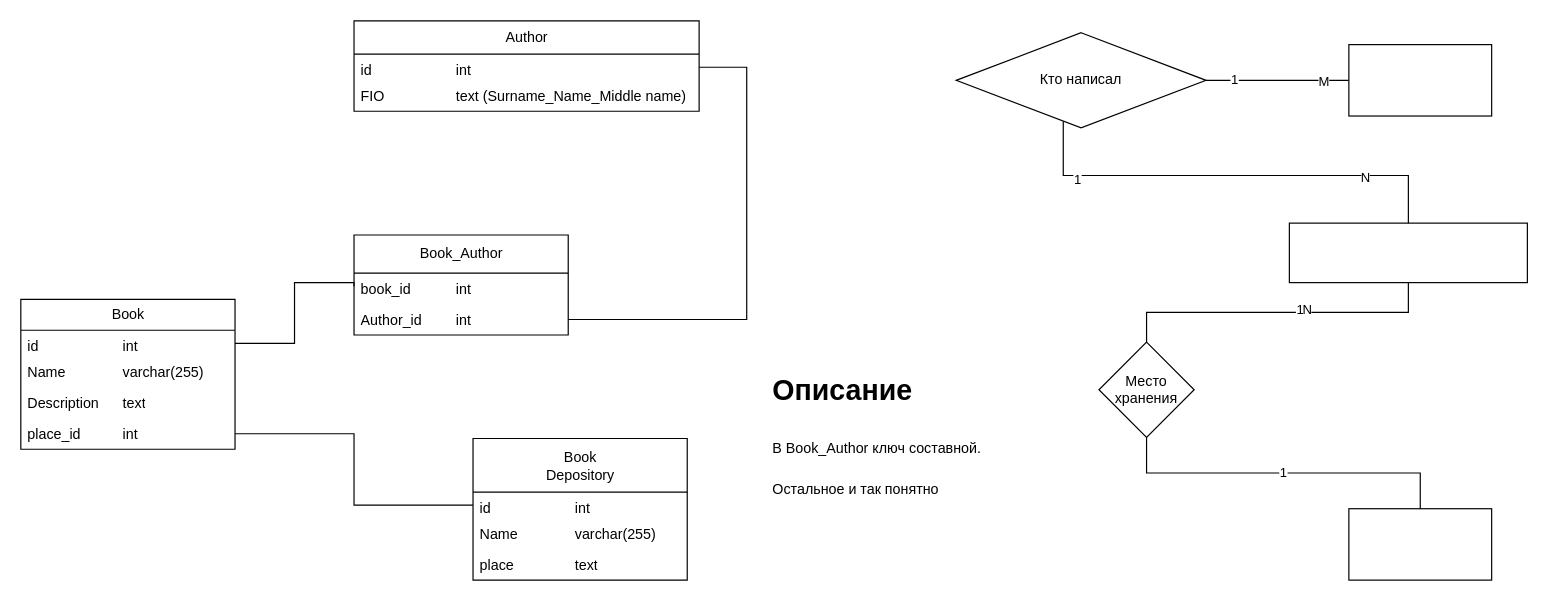
This 1548x605 diagram has some shape labels left out. Here are the shapes that lost their labels. From the top down, the centre of each, then its label:
the point at 1420,79: Автор
the point at 1407,252: Книга
the point at 1420,544: Книгохранилище
